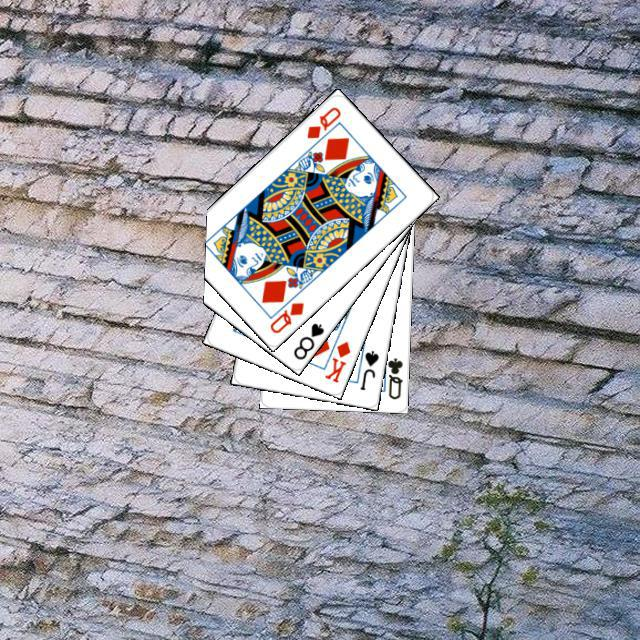8s: (288, 318, 326, 362)
Js: (355, 346, 380, 392)
Kd: (319, 336, 352, 384)
Qc: (377, 348, 404, 401)
Qd: (265, 297, 306, 335), (302, 102, 342, 140)
